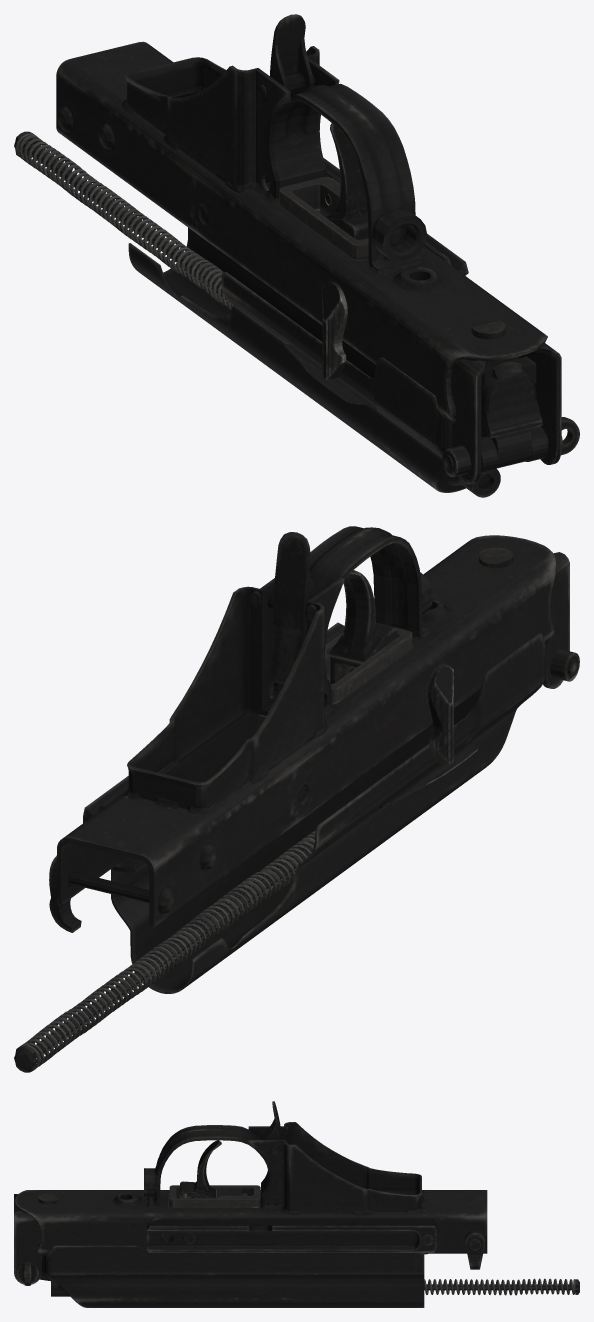
The picture shows the model from 3 angles, top to bottom: view 1: azimuth 30°, elevation 25°; view 2: azimuth 150°, elevation 25°; view 3: azimuth 270°, elevation 25°; orthographic projection. The views are drawn at different scales.
Visible parts, largest first — view 1: TW_644674a13d52156624001fbc_PZ_Import; view 2: TW_644674a13d52156624001fbc_PZ_Import; view 3: TW_644674a13d52156624001fbc_PZ_Import.
Part boxes in pixels (<box>): TW_644674a13d52156624001fbc_PZ_Import: <box>14,14,579,497</box>; TW_644674a13d52156624001fbc_PZ_Import: <box>14,526,579,1072</box>; TW_644674a13d52156624001fbc_PZ_Import: <box>14,1101,579,1307</box>.
Size of the model in its own units: 0.0239 by 0.1547 by 0.0615.
1 material, 1 textured.
